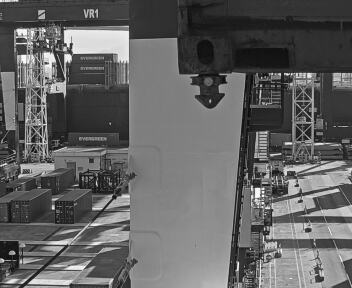twist_lock_2: (132, 69, 190, 111)
